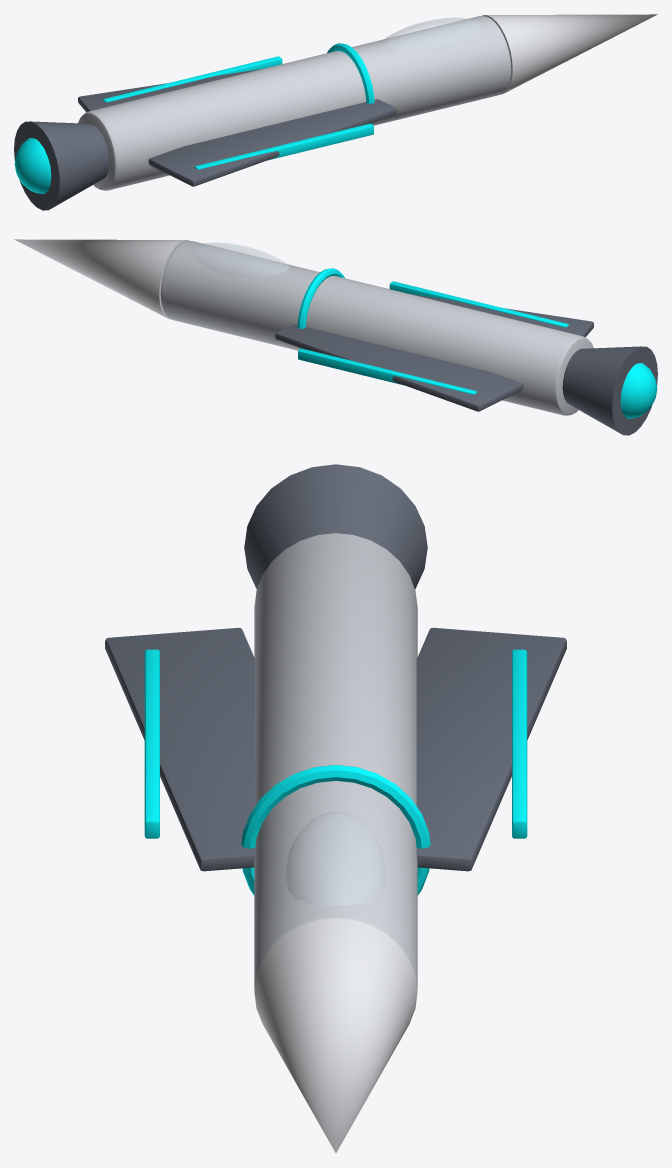
Rendered from relativistic_craft.glb.
3 views of the same model, one above another, from view 1: azimuth 30°, elevation 25°; view 2: azimuth 150°, elevation 25°; view 3: azimuth 270°, elevation 25° (orthographic). The views are drawn at different scales.
Parts seen in each view (by area): view 1: Cylinder; view 2: Cylinder; view 3: Cylinder.
Part boxes in pixels (x1,y1,x2,y2): Cylinder: (14, 14, 657, 210); Cylinder: (14, 239, 657, 435); Cylinder: (105, 464, 566, 1152).
Size of the model in its own units: 5.79 by 0.775 by 1.81.
